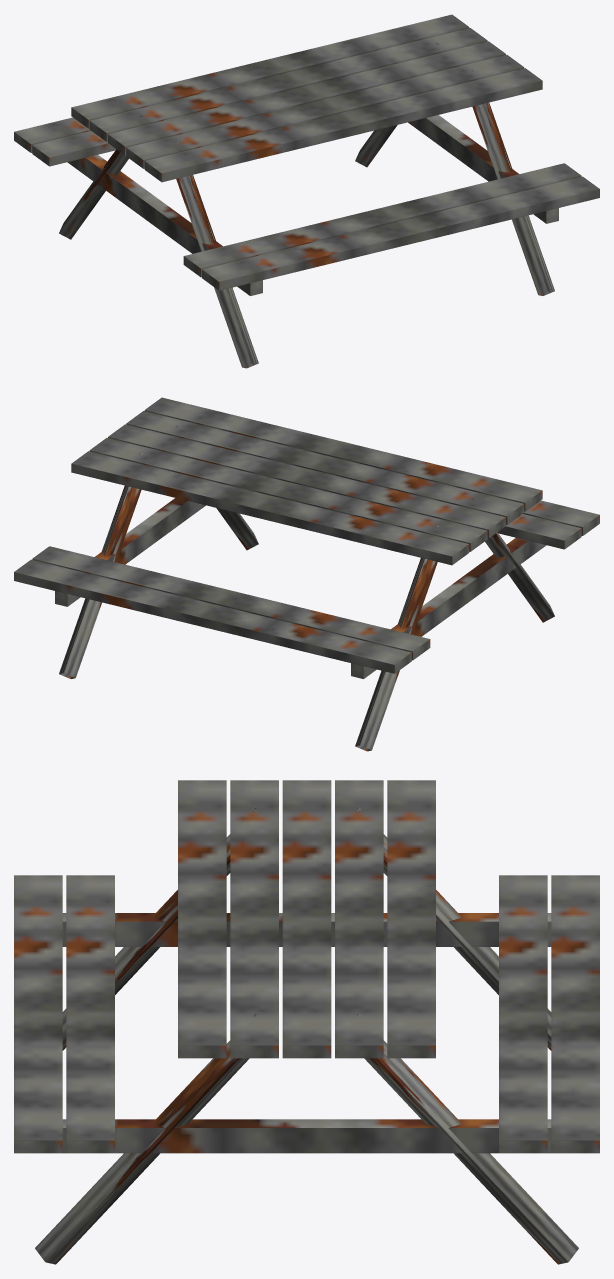
File: SM_picnic_table.fbx
3 renders of one model, top to bottom at view 1: azimuth 30°, elevation 25°; view 2: azimuth 150°, elevation 25°; view 3: azimuth 270°, elevation 25°, orthographic. The views are drawn at different scales.
Visible parts, largest first — view 1: picnic_table; view 2: picnic_table; view 3: picnic_table.
Boxes of the visible parts, bbox=[...] form: picnic_table: bbox=[14, 14, 599, 368]; picnic_table: bbox=[14, 397, 599, 751]; picnic_table: bbox=[14, 780, 599, 1264].
Size of the model in its own units: 1.8 by 0.7919 by 1.68.
